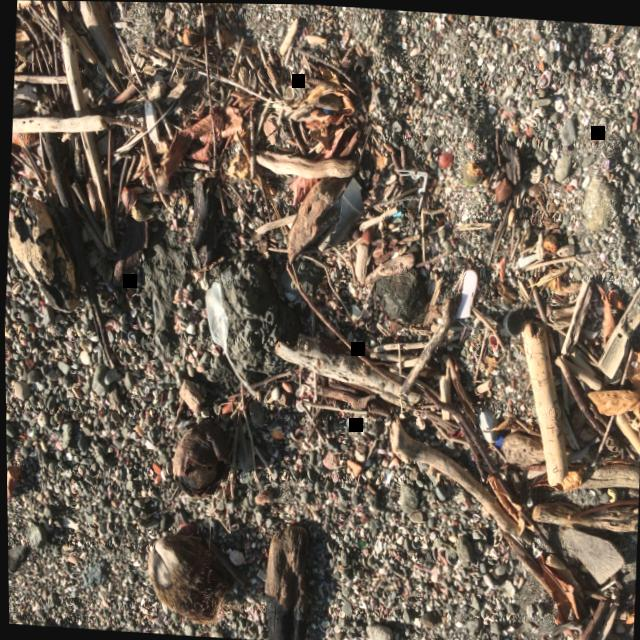Other plastic bottle: (323, 175, 364, 246), (394, 167, 426, 210), (453, 266, 476, 316), (516, 251, 535, 265), (391, 208, 400, 215)
Plastic film: (203, 280, 254, 395)
Unlabeled litter: (496, 310, 520, 334)
